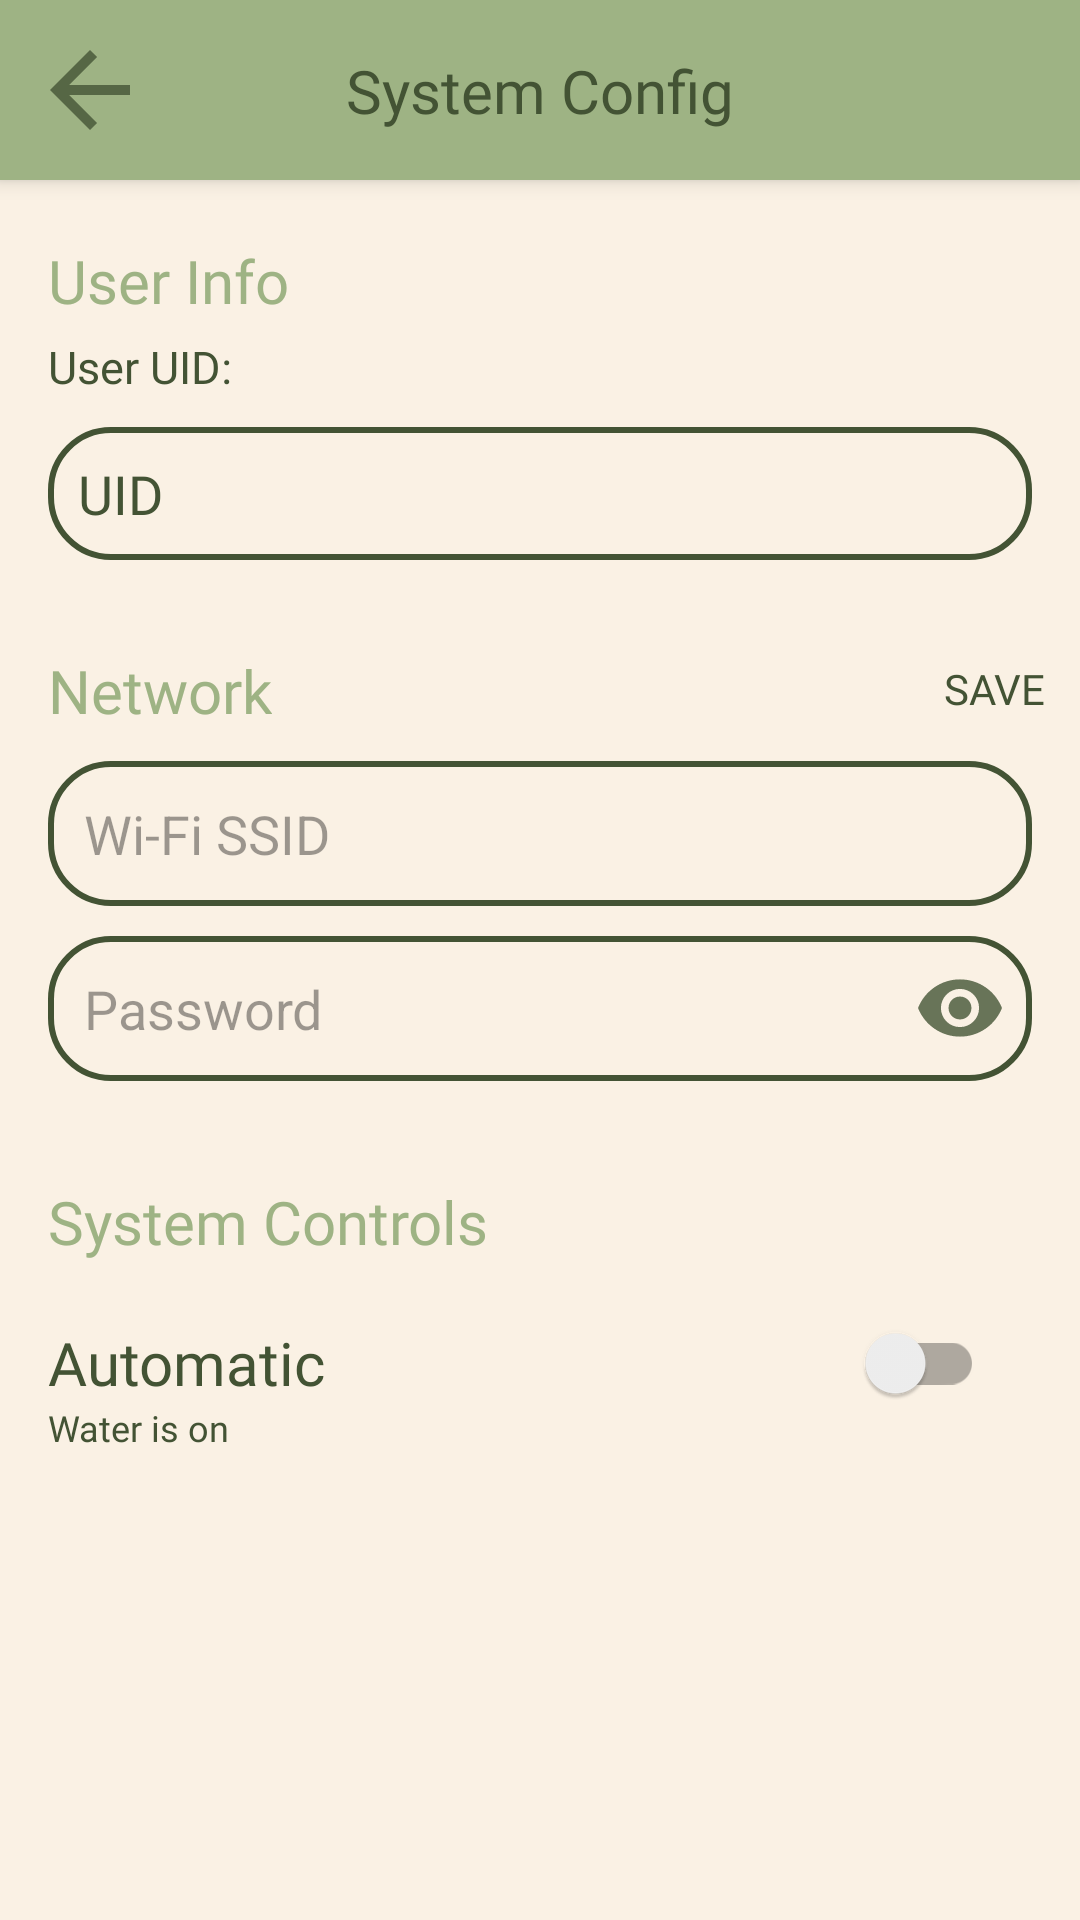

Screen size 1080x1920. Icon name, then its center in pixels as [x,y]:
Back Button: [90,90]
visibility: [960,1008]
